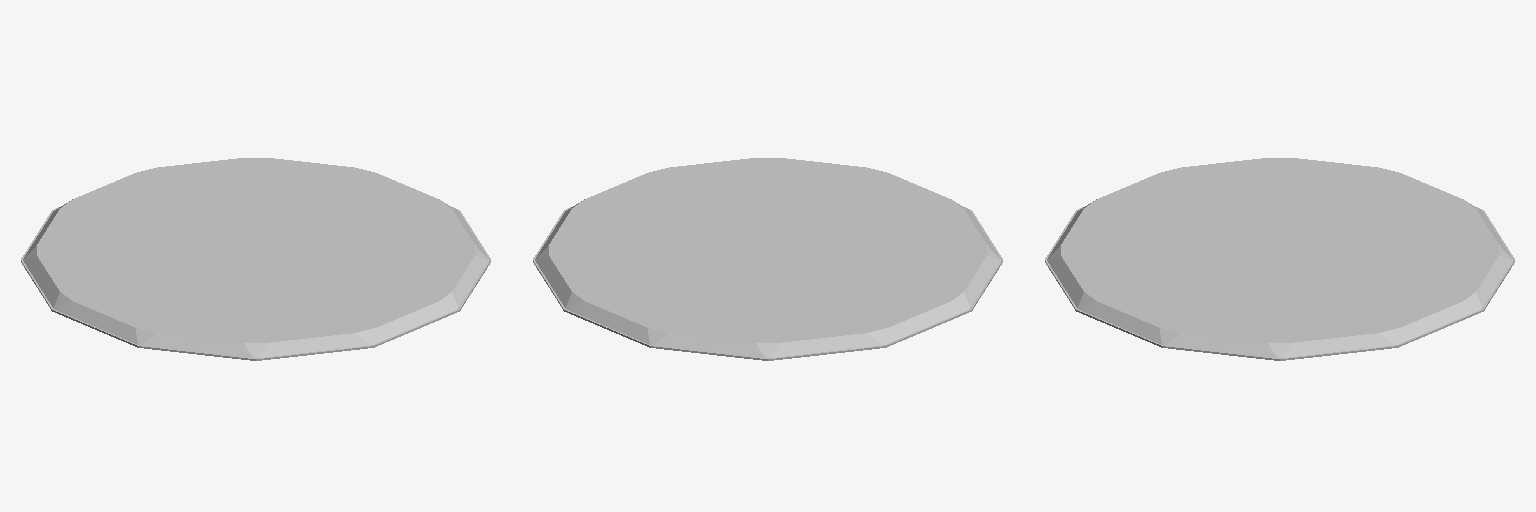
The model's file is chip_beveled.obj.
The picture shows the model from 3 angles: view 1: azimuth 30°, elevation 25°; view 2: azimuth 150°, elevation 25°; view 3: azimuth 270°, elevation 25°; orthographic projection.
Parts seen in each view (by area): view 1: Circle.001; view 2: Circle.001; view 3: Circle.001.
Part boxes in pixels (x1,y1,x2,y2): Circle.001: (21, 158, 490, 360); Circle.001: (533, 158, 1002, 360); Circle.001: (1045, 158, 1514, 360).
Bounding box in the file's own units: 0.66 × 0.0177 × 0.66.